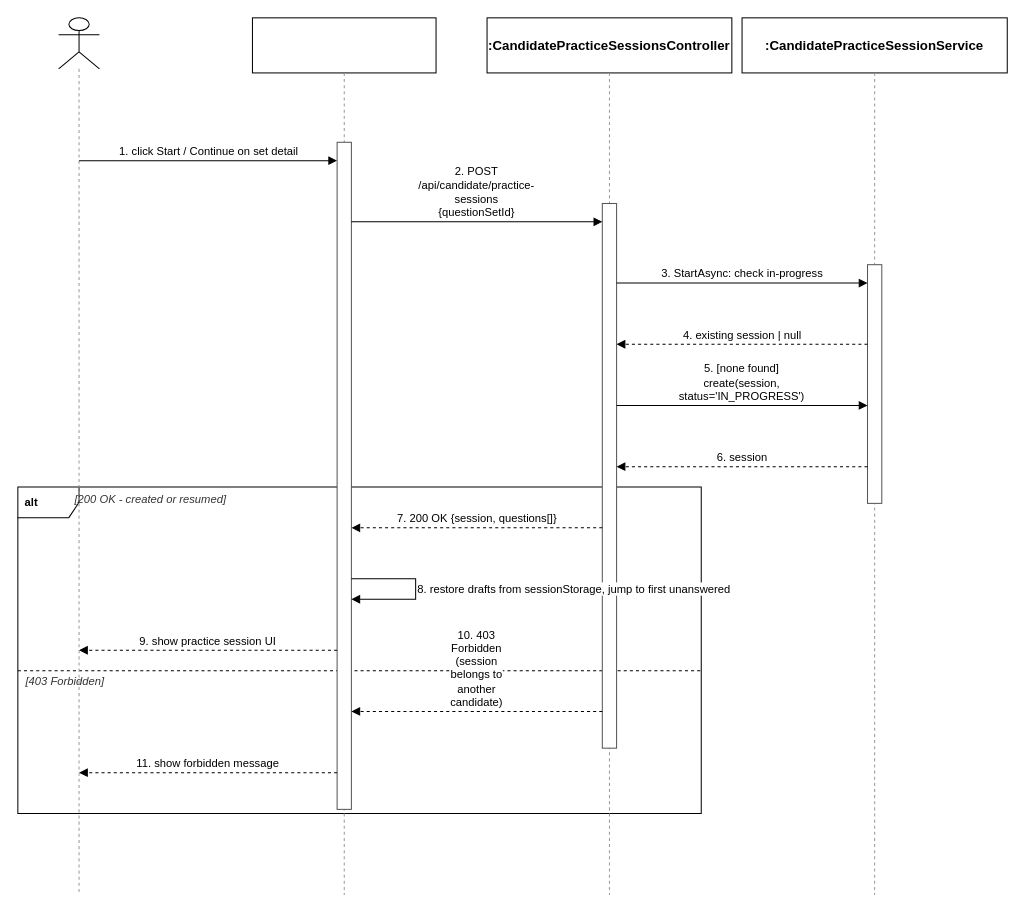
Image size: 1025x914. Some labels were removed from this diagram. Each missing label, with the centre of its shape:
":PracticeSessionClient" goes at (343,45).
"Job Seeker" goes at (78,43).
